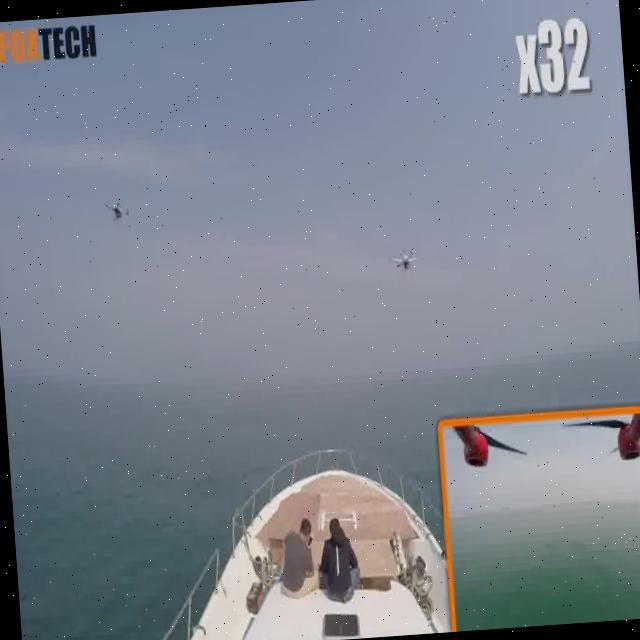drone: (384, 239, 424, 281), (96, 188, 134, 229)
